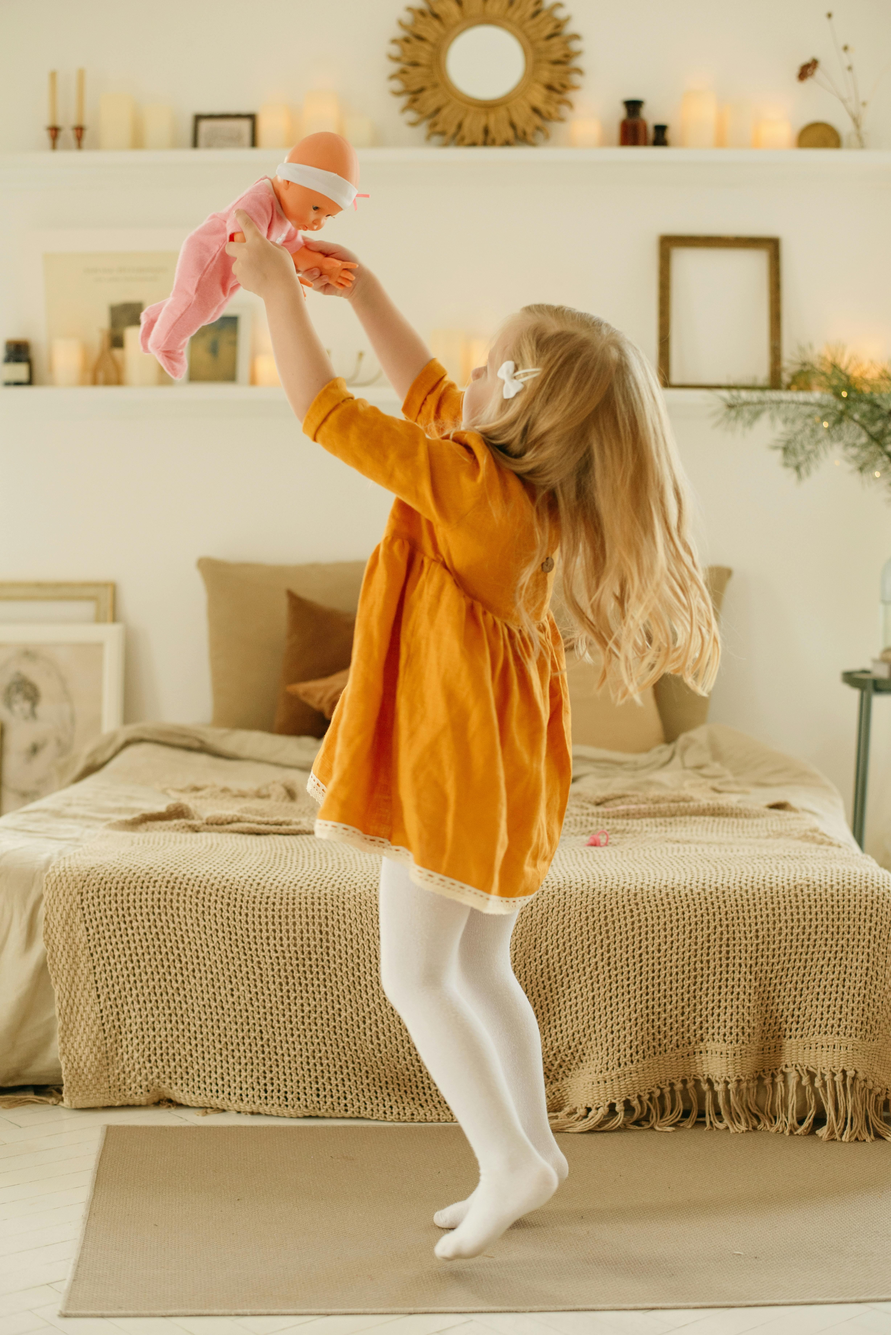Human: (273, 251, 640, 1335)
